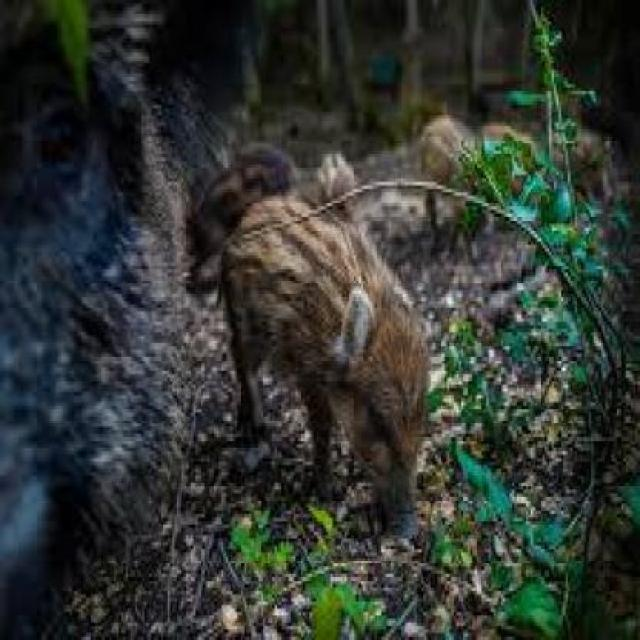wildboar: (218, 186, 450, 542), (183, 132, 295, 286), (414, 107, 488, 248), (472, 115, 556, 213), (312, 142, 361, 230)
